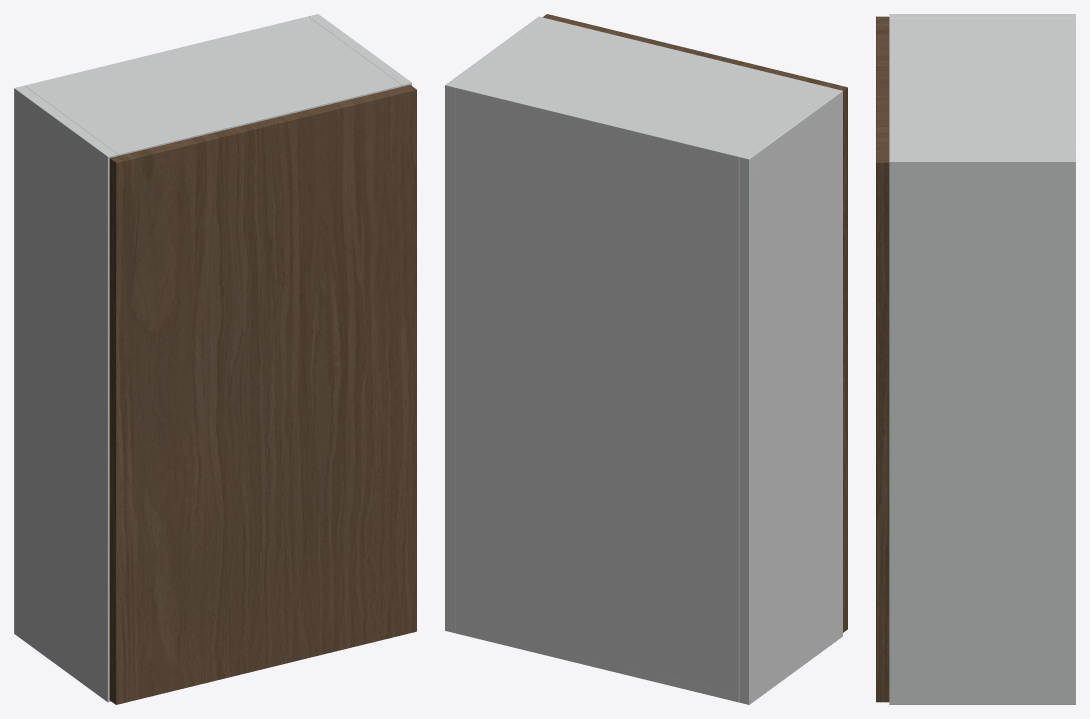
The model's file is oppein-ply-mso-w1236.glb.
The picture shows the model from 3 angles, left to right: view 1: azimuth 30°, elevation 25°; view 2: azimuth 150°, elevation 25°; view 3: azimuth 270°, elevation 25°; orthographic projection.
Parts seen in each view (by area): view 1: Door, Cabinet side, Cabinet top, Cabinet back, Cabinet side.001; view 2: Cabinet back, Cabinet side, Cabinet top, Cabinet side.001, Door, Cabinet bottom; view 3: Cabinet side.001, Cabinet top, Door, Cabinet back, Cabinet side.
Boxes of the visible parts, x1,y1,x2,y2 form: Door: [109, 85, 416, 704]; Cabinet side: [14, 86, 117, 702]; Cabinet top: [25, 19, 401, 155]; Cabinet back: [25, 16, 310, 87]; Cabinet side.001: [308, 14, 411, 86]; Cabinet back: [455, 85, 742, 702]; Cabinet side: [739, 88, 842, 704]; Cabinet top: [455, 19, 832, 166]; Cabinet side.001: [445, 16, 548, 632]; Door: [542, 14, 847, 632]; Cabinet bottom: [455, 623, 739, 701]; Cabinet side.001: [889, 157, 1075, 704]; Cabinet top: [889, 19, 1075, 156]; Door: [876, 16, 889, 702]; Cabinet back: [1068, 19, 1075, 156]; Cabinet side: [889, 14, 1075, 18].
Bounding box in the file's own units: 0.5334 × 0.9144 × 0.3048.
Materials: 2 (1 with a texture image).
